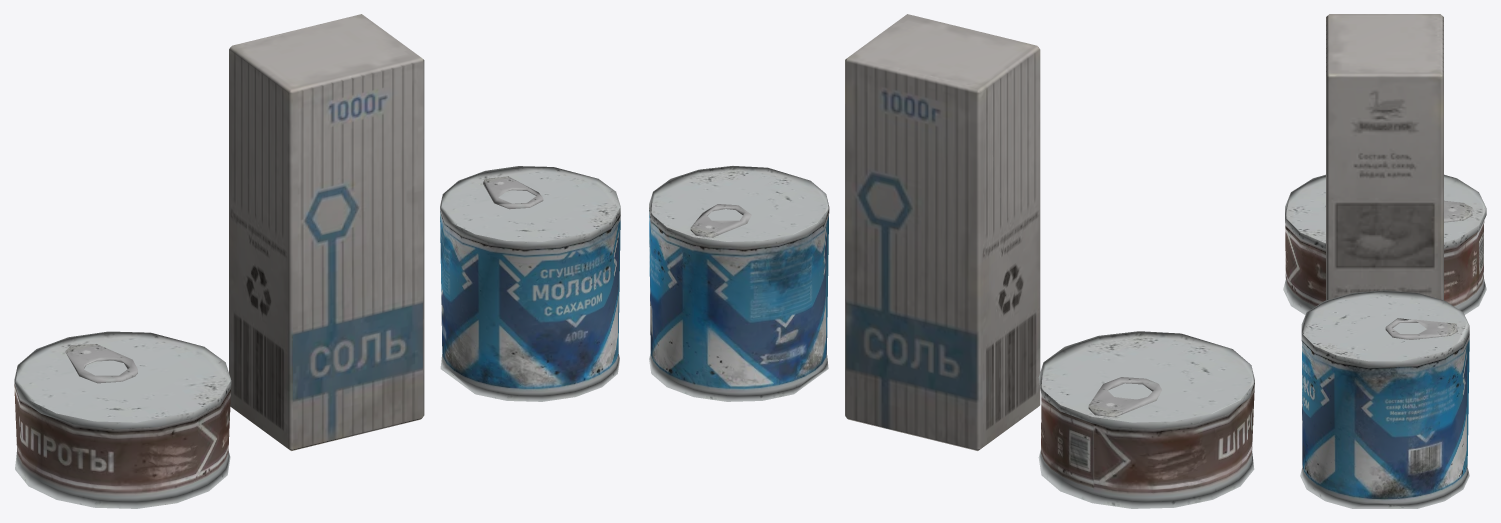
The model's file is russian_food_cans_01.glb.
3 renders of one model, left to right at view 1: azimuth 30°, elevation 25°; view 2: azimuth 150°, elevation 25°; view 3: azimuth 270°, elevation 25°, orthographic. The views are drawn at different scales.
Visible parts, largest first — view 1: russian_food_cans_01_salt_box; view 2: russian_food_cans_01_salt_box; view 3: russian_food_cans_01_salt_box.
Part boxes in pixels (left/top/right/bottom): russian_food_cans_01_salt_box: left=14, top=14, right=620, bottom=508; russian_food_cans_01_salt_box: left=649, top=14, right=1254, bottom=508; russian_food_cans_01_salt_box: left=1283, top=14, right=1486, bottom=508.
Size of the model in its own units: 0.1424 by 0.0849 by 0.0462.
Materials: 1 (1 with a texture image).
